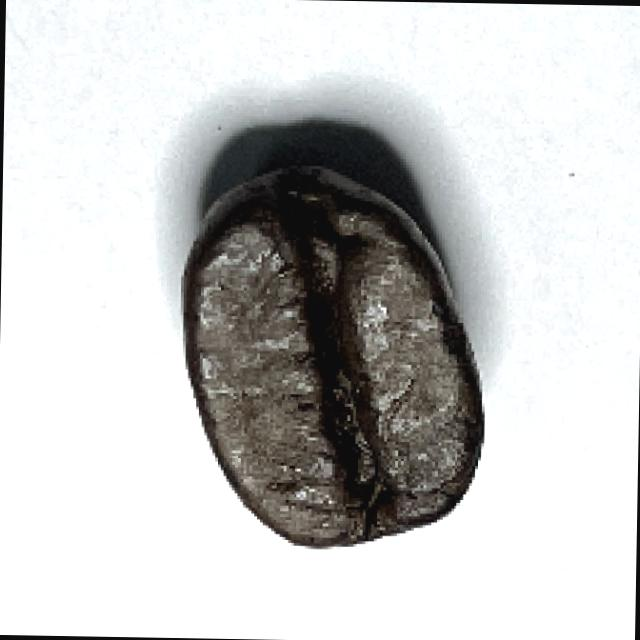bean: (178, 162, 491, 554)
